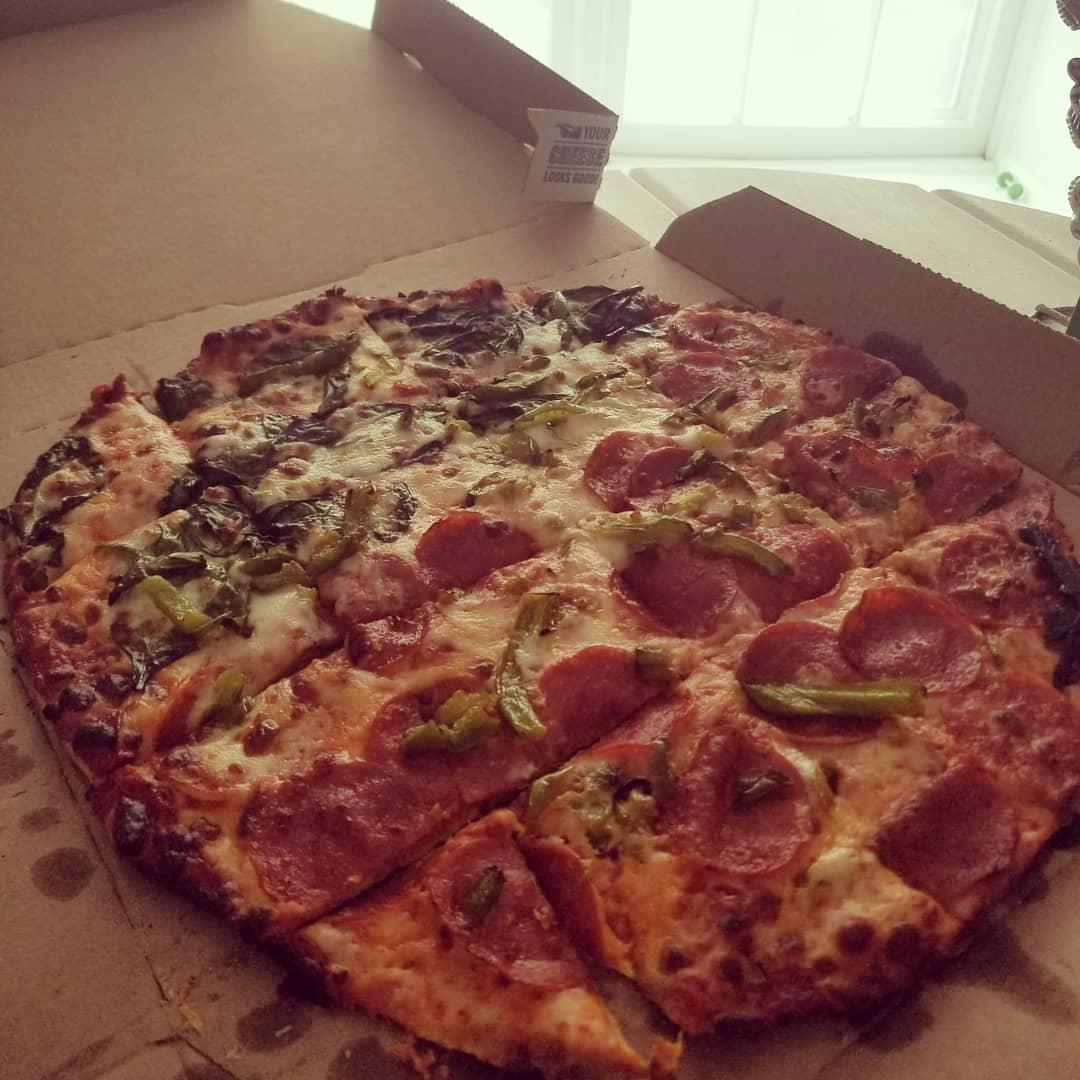Ham: (428, 828, 611, 996), (238, 767, 431, 891), (680, 727, 807, 869), (876, 761, 1013, 889), (367, 682, 512, 793), (741, 623, 882, 730), (843, 587, 979, 694), (939, 533, 1080, 634), (518, 655, 669, 738), (735, 521, 860, 611), (607, 542, 735, 629), (419, 516, 548, 597), (792, 430, 898, 511), (576, 428, 702, 495), (914, 444, 1022, 518), (320, 554, 426, 616), (647, 353, 767, 407), (795, 343, 887, 406), (665, 309, 767, 353)
Mushroom: (181, 491, 335, 551), (429, 313, 539, 354)
Pizza: (0, 288, 1080, 1080)
